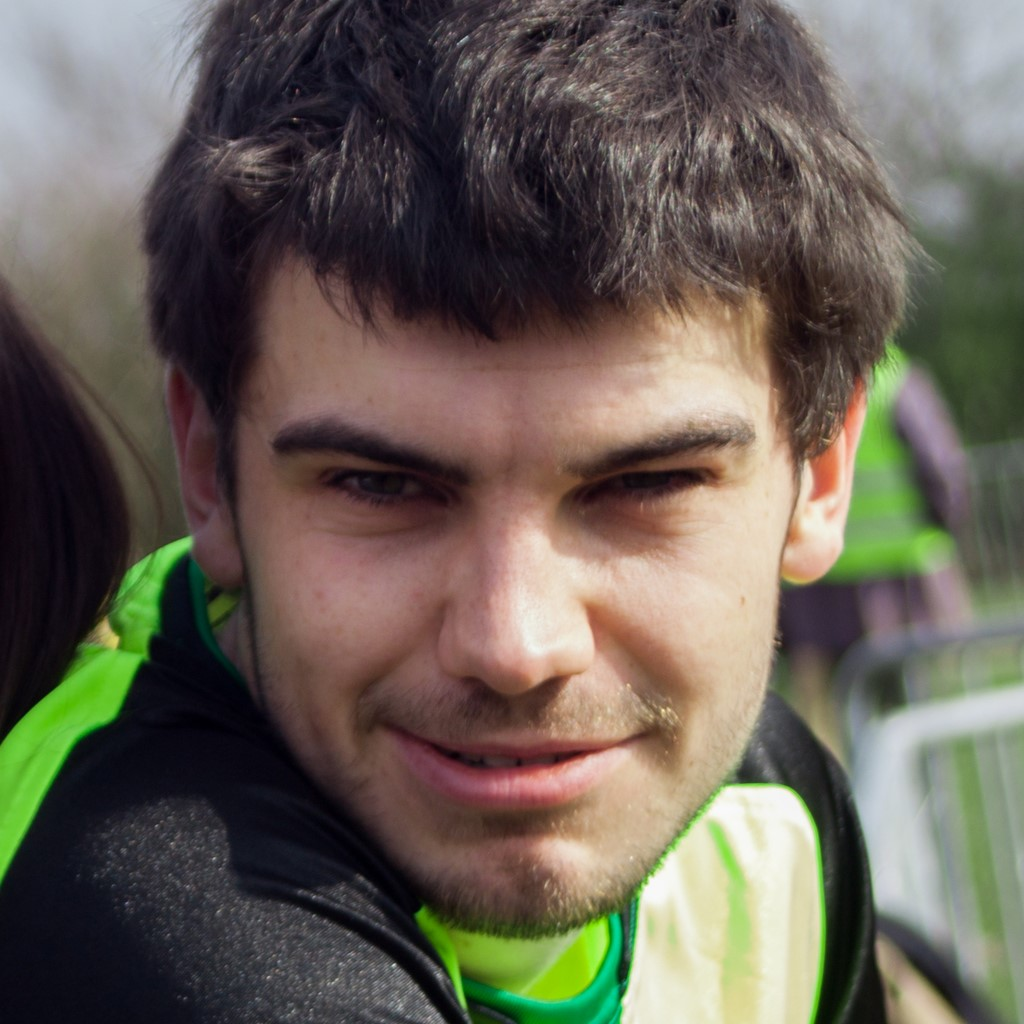sin_mascara: (208, 74, 812, 927)
